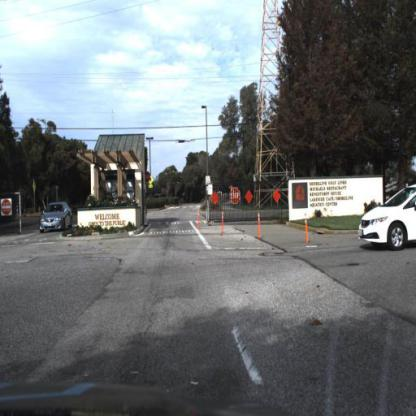car: (359, 180, 416, 250), (38, 199, 72, 233)
